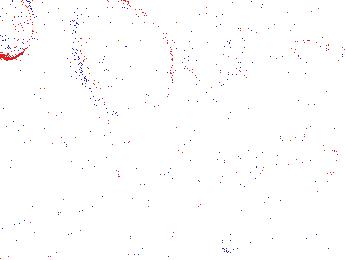moon jellyfish: (73, 1, 173, 119), (244, 134, 337, 216), (188, 1, 255, 90), (288, 40, 346, 108), (1, 1, 36, 61)
